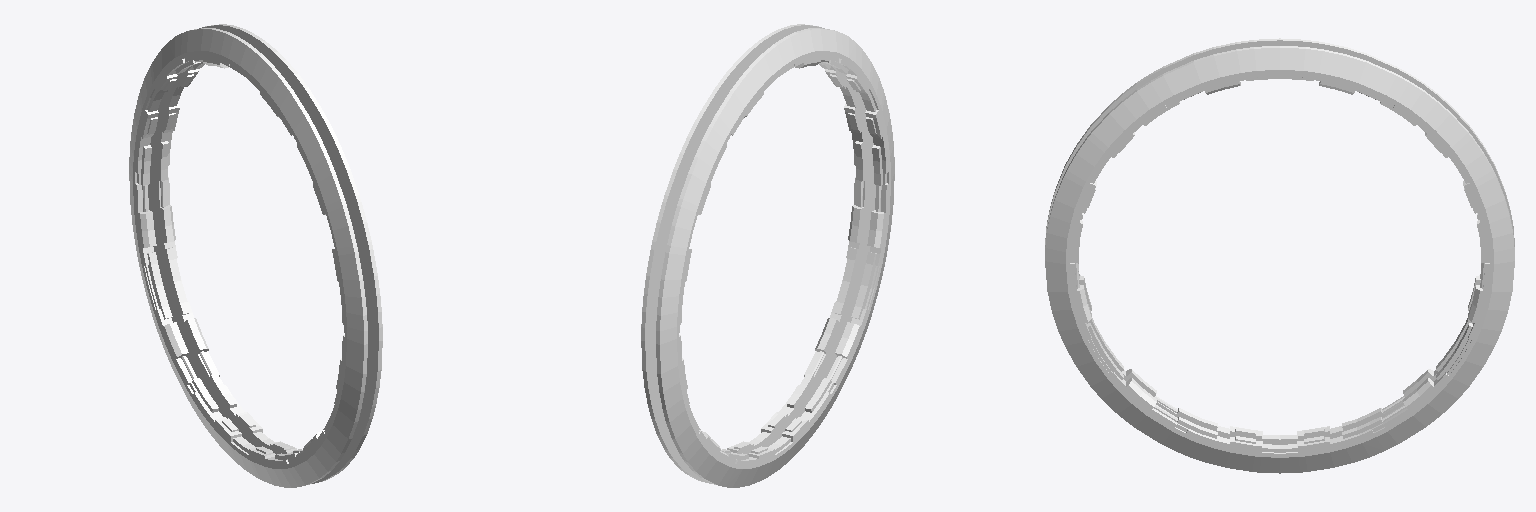
Rendered from tfpa_01_colossus_rings.obj.
3 renders of one model, left to right at view 1: azimuth 30°, elevation 25°; view 2: azimuth 150°, elevation 25°; view 3: azimuth 270°, elevation 25°, orthographic.
Visible parts, largest first — view 1: rings_meshShape; view 2: rings_meshShape; view 3: rings_meshShape.
Part boxes in pixels (x1,y1,x2,y2): rings_meshShape: (129, 24, 382, 487); rings_meshShape: (641, 24, 894, 487); rings_meshShape: (1045, 38, 1514, 473).
Size of the model in its own units: 0.0001 by 0.0007 by 0.0007.